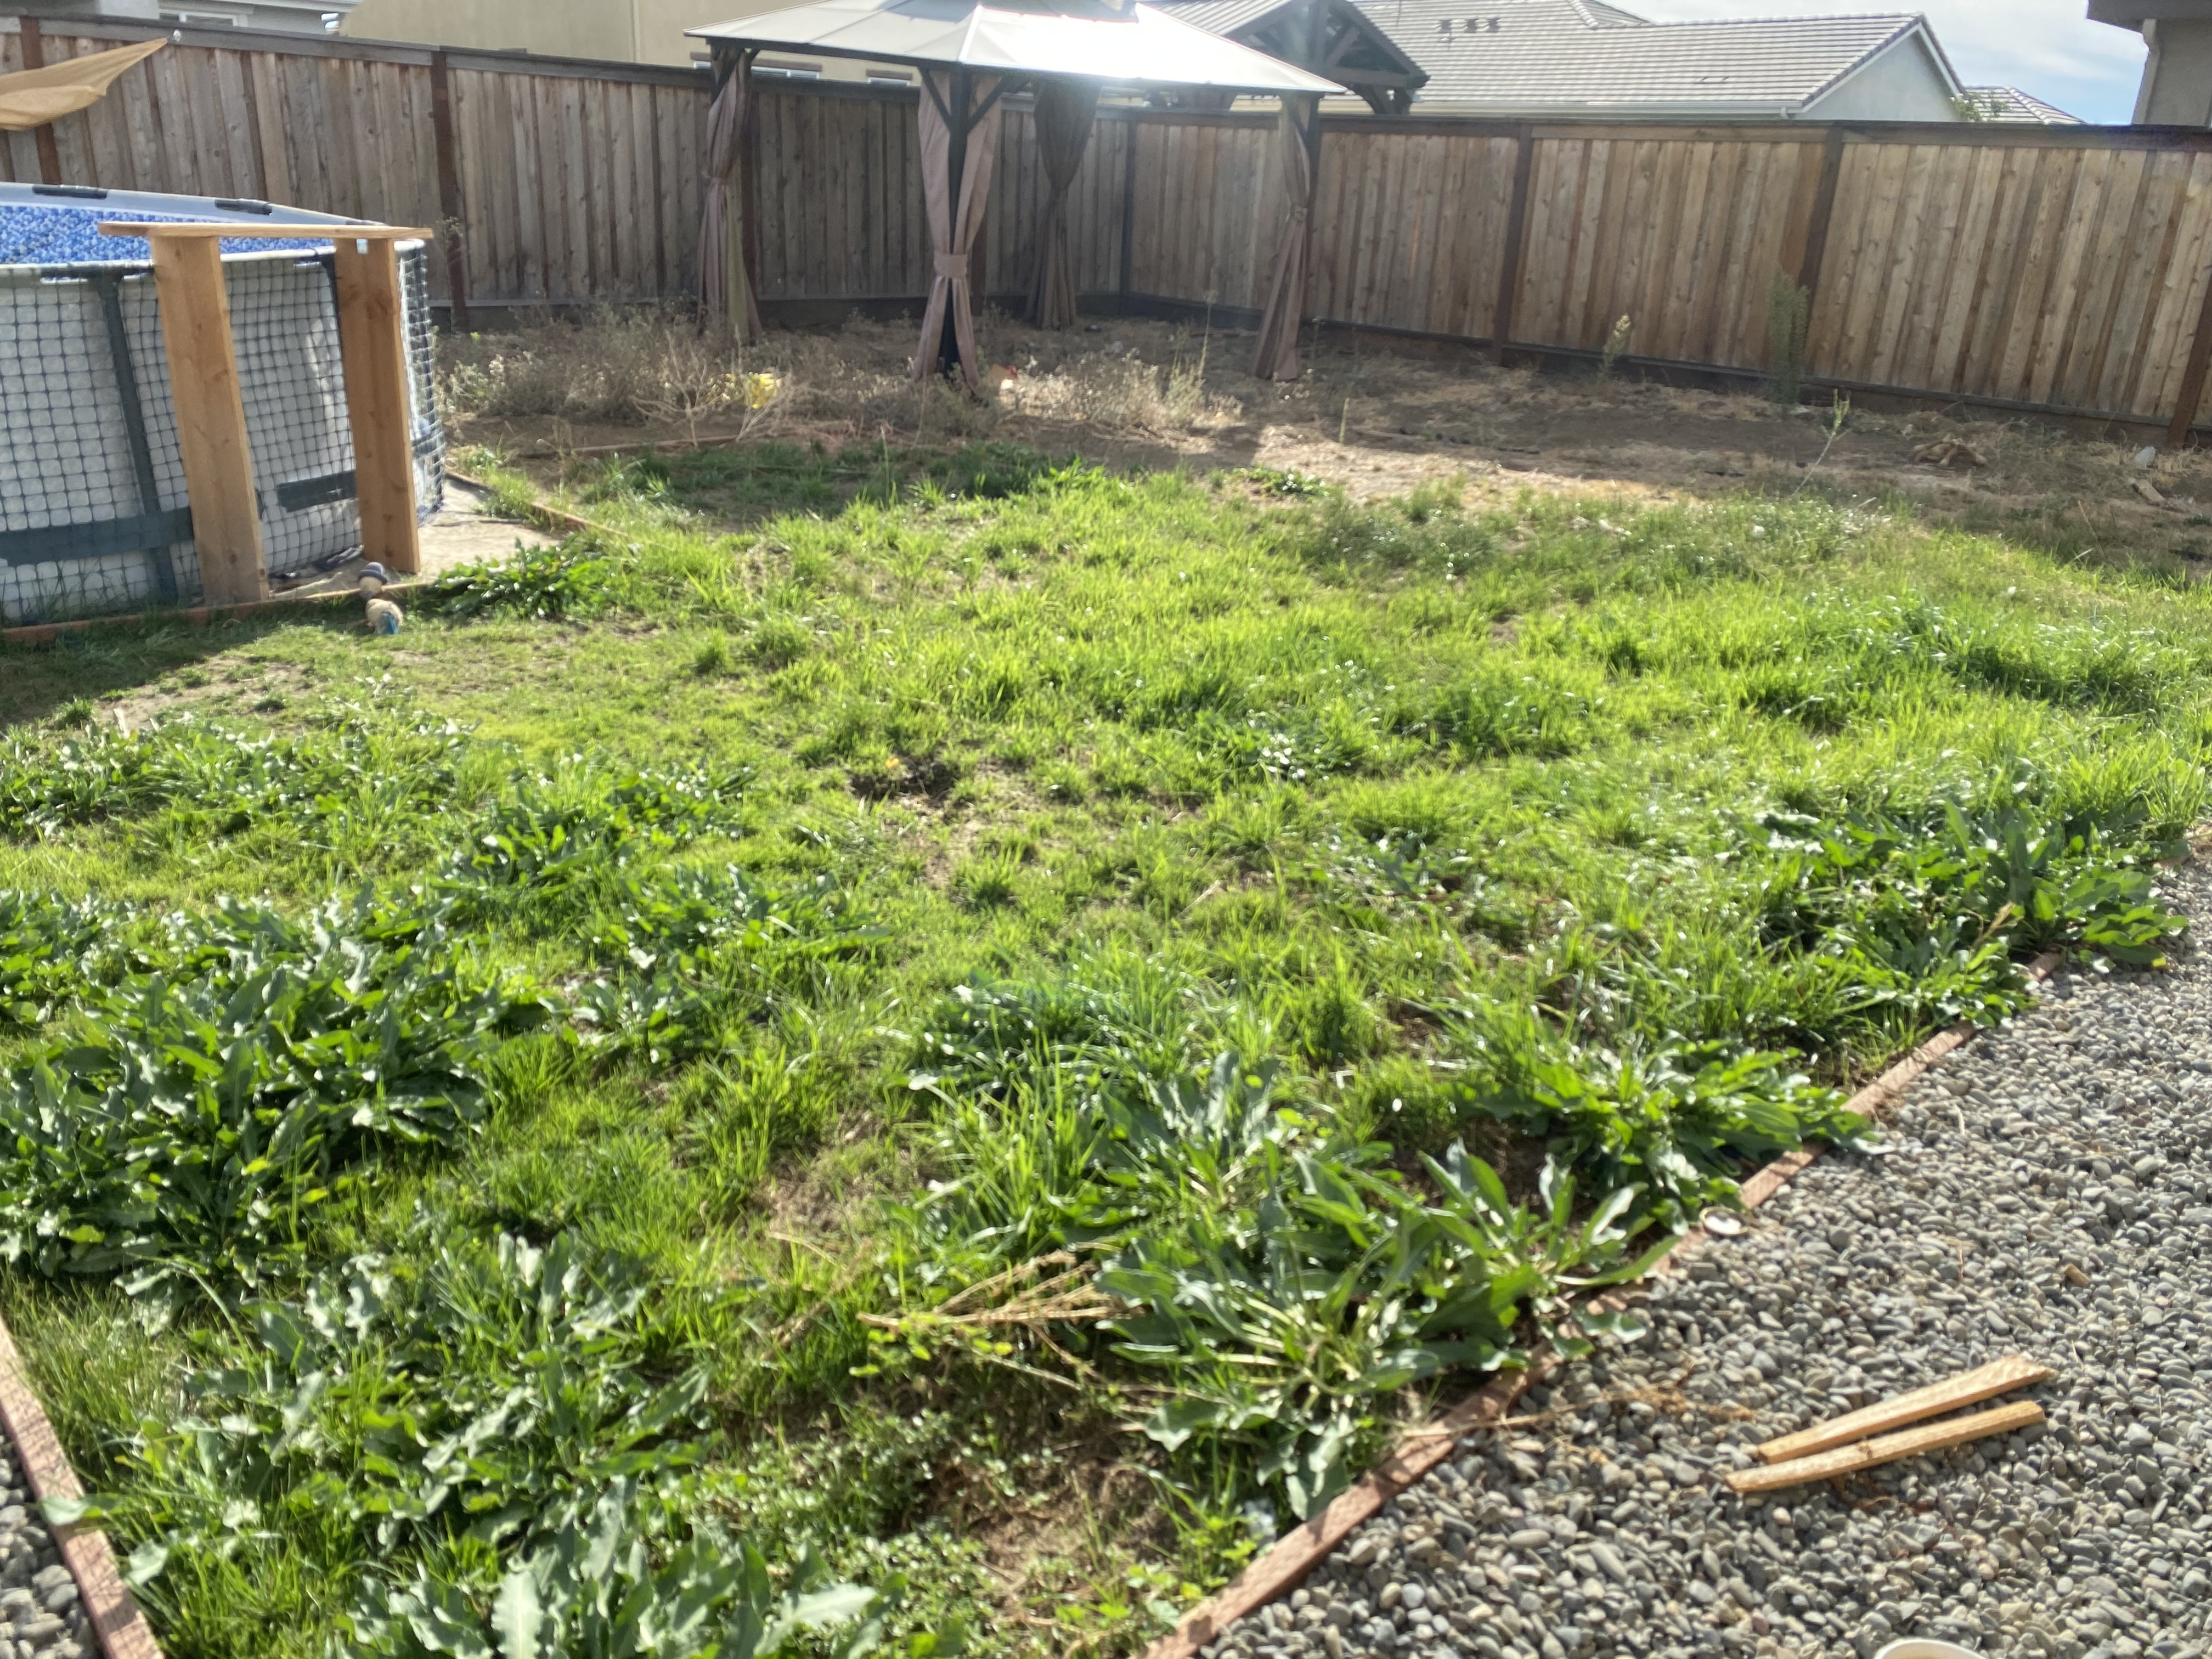weed: (1144, 1197, 1531, 1467), (1527, 985, 1872, 1204), (35, 1056, 348, 1297), (388, 1495, 803, 1659), (179, 922, 496, 1100), (1898, 781, 2151, 948)
